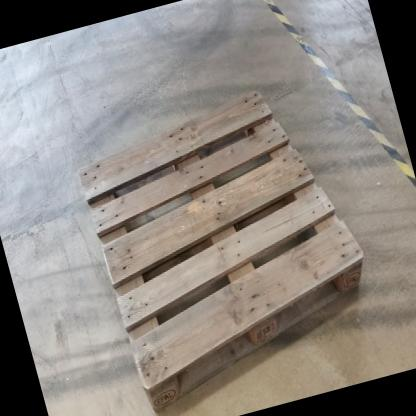BoxFace: (72, 84, 368, 416)
